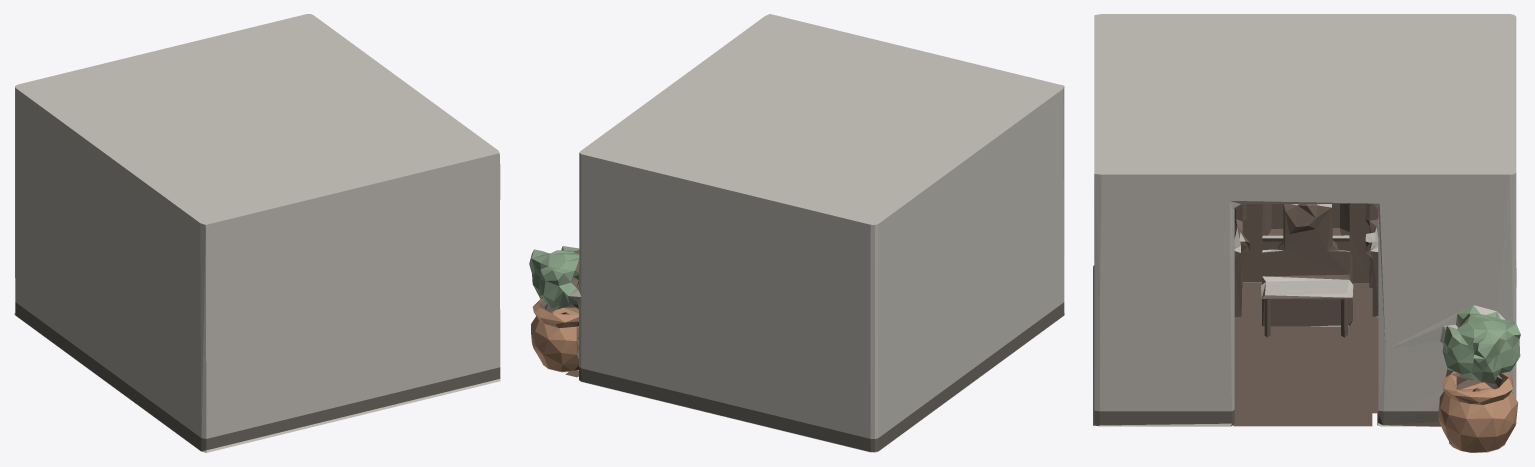
File: etape-1.glb
3 renders of one model, left to right at view 1: azimuth 30°, elevation 25°; view 2: azimuth 150°, elevation 25°; view 3: azimuth 270°, elevation 25°, orthographic. The views are drawn at different scales.
Visible parts, largest first — view 1: geometry_0; view 2: geometry_0; view 3: geometry_0.
Boxes of the visible parts, <box> form: geometry_0: <box>14,14,500,452</box>; geometry_0: <box>529,14,1064,452</box>; geometry_0: <box>1093,14,1520,452</box>.
Bounding box in the file's own units: 0.8584 × 0.5169 × 0.797.
